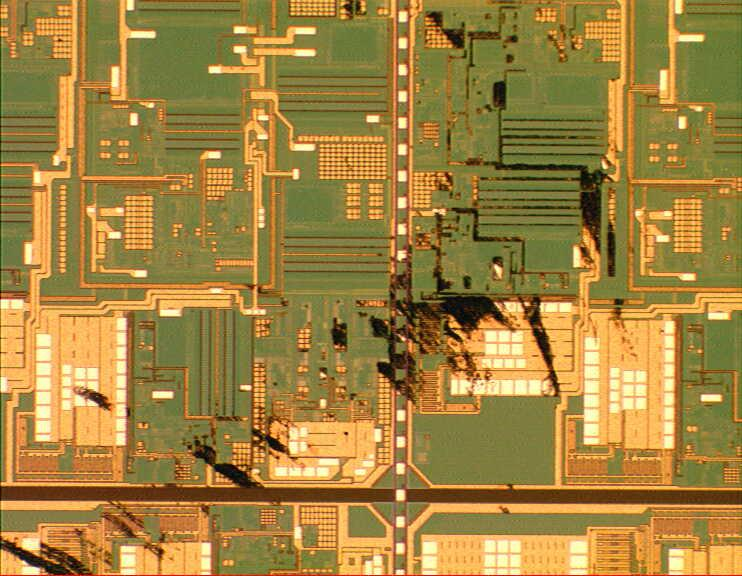SCRATCH: (1, 1, 646, 576)
